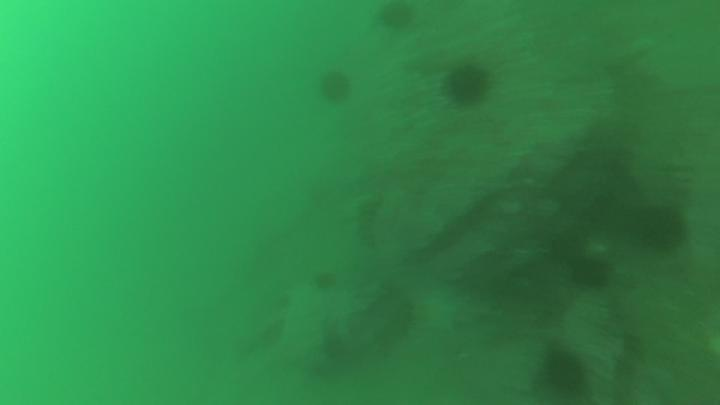echinus: (350, 189, 385, 251)
starfish: (535, 342, 592, 405), (431, 56, 495, 108), (637, 201, 687, 254), (565, 253, 616, 295), (317, 67, 357, 106), (373, 4, 420, 35)
